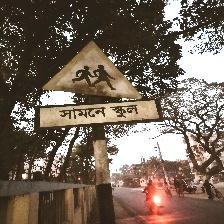School-in-front: (37, 40, 162, 132)
